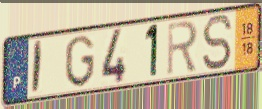1: (142, 22, 160, 81)
4: (100, 26, 129, 87)
G: (63, 33, 96, 89)
I: (30, 39, 45, 97)
R: (166, 18, 200, 78)
S: (201, 13, 235, 72)
